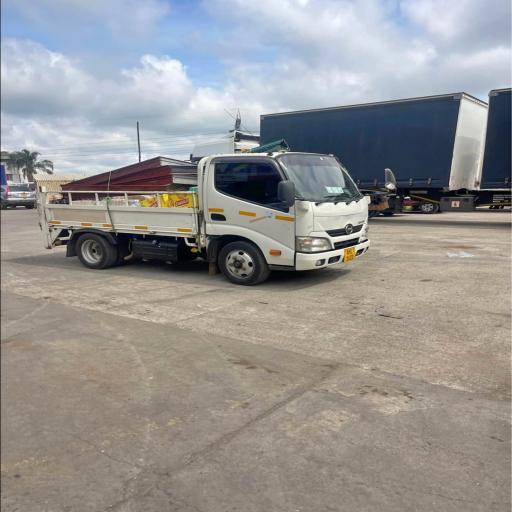number-plates: (342, 246, 360, 264)
